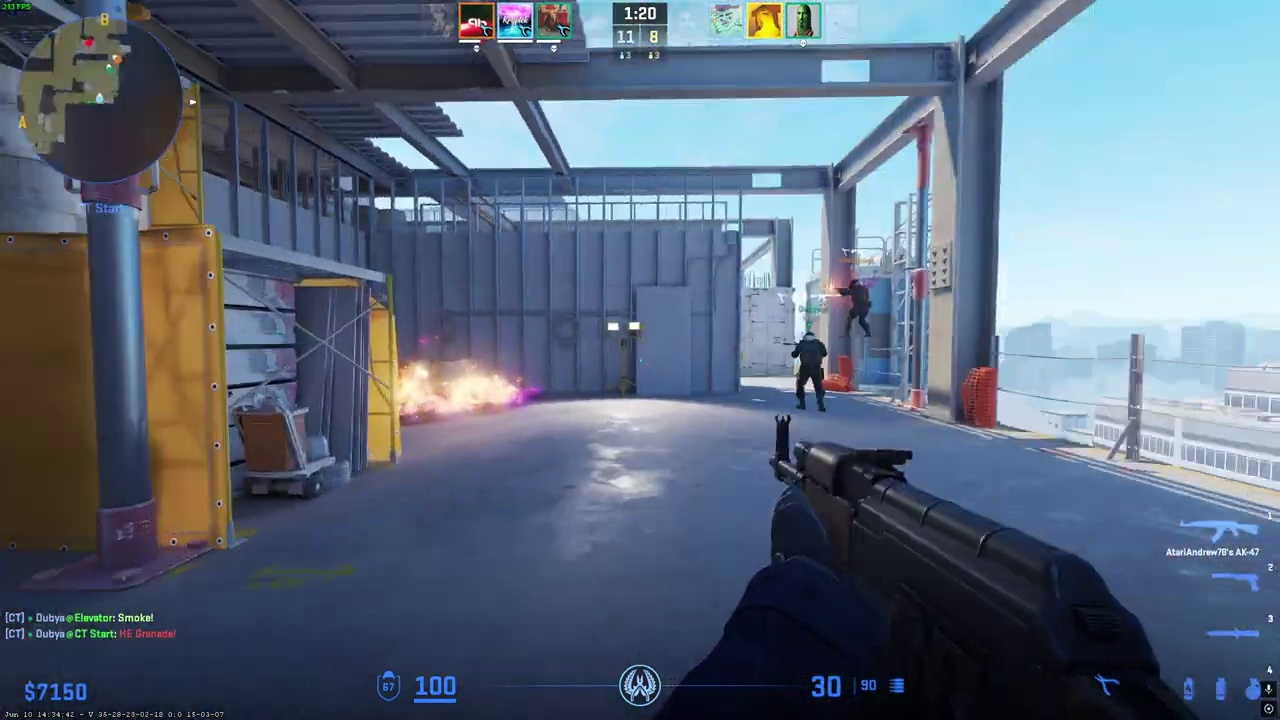CT: (793, 331, 827, 412), (843, 279, 872, 338)
